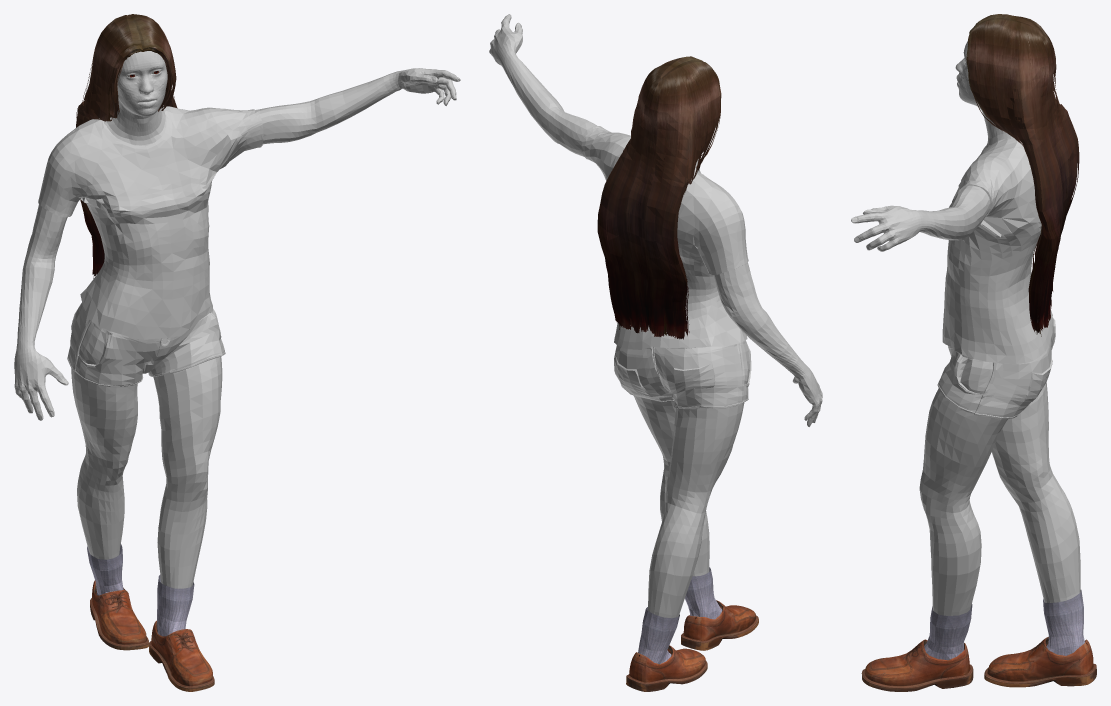
The model's file is human_3.obj.
3 renders of one model, left to right at view 1: azimuth 30°, elevation 25°; view 2: azimuth 150°, elevation 25°; view 3: azimuth 270°, elevation 25°, orthographic. The views are drawn at different scales.
Visible parts, largest first — view 1: female_casualsuit02.obj, base.obj, shoes01.obj, long01.obj; view 2: long01.obj, base.obj, female_casualsuit02.obj, shoes01.obj; view 3: base.obj, female_casualsuit02.obj, long01.obj, shoes01.obj.
Boxes of the visible parts, x1,y1,x2,y2 form: female_casualsuit02.obj: (38, 105, 263, 386); base.obj: (14, 51, 460, 588); shoes01.obj: (87, 544, 214, 691); long01.obj: (76, 14, 177, 278); long01.obj: (597, 56, 721, 339); base.obj: (489, 14, 822, 618); female_casualsuit02.obj: (581, 126, 751, 408); shoes01.obj: (626, 567, 758, 691); base.obj: (851, 41, 1080, 615); female_casualsuit02.obj: (937, 138, 1055, 419); long01.obj: (966, 14, 1079, 336); shoes01.obj: (861, 590, 1096, 691).
Size of the model in its own units: 10.6 by 16.38 by 5.5.
